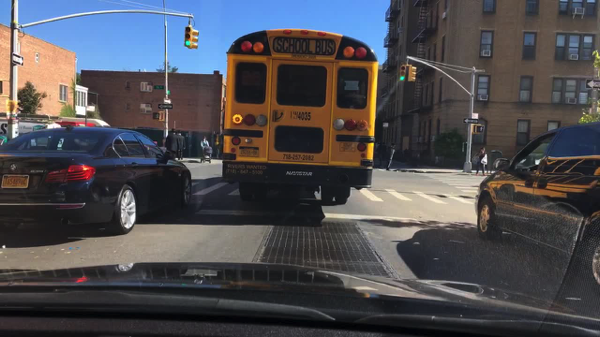bus: (221, 30, 377, 204)
car: (474, 120, 599, 292), (0, 127, 191, 233)
person: (469, 146, 487, 179), (164, 128, 182, 157), (176, 129, 188, 160), (384, 141, 397, 169), (200, 135, 211, 164), (373, 139, 382, 168)
traffic light: (184, 25, 192, 47), (407, 65, 417, 81), (191, 30, 199, 49), (150, 111, 163, 121), (398, 65, 405, 81), (473, 125, 484, 134)
traffic sign: (11, 52, 24, 66), (584, 80, 599, 90), (462, 118, 479, 125), (157, 104, 173, 110), (153, 84, 165, 90), (162, 97, 171, 103), (381, 122, 388, 128)
truck: (0, 110, 112, 128), (0, 111, 62, 140)
